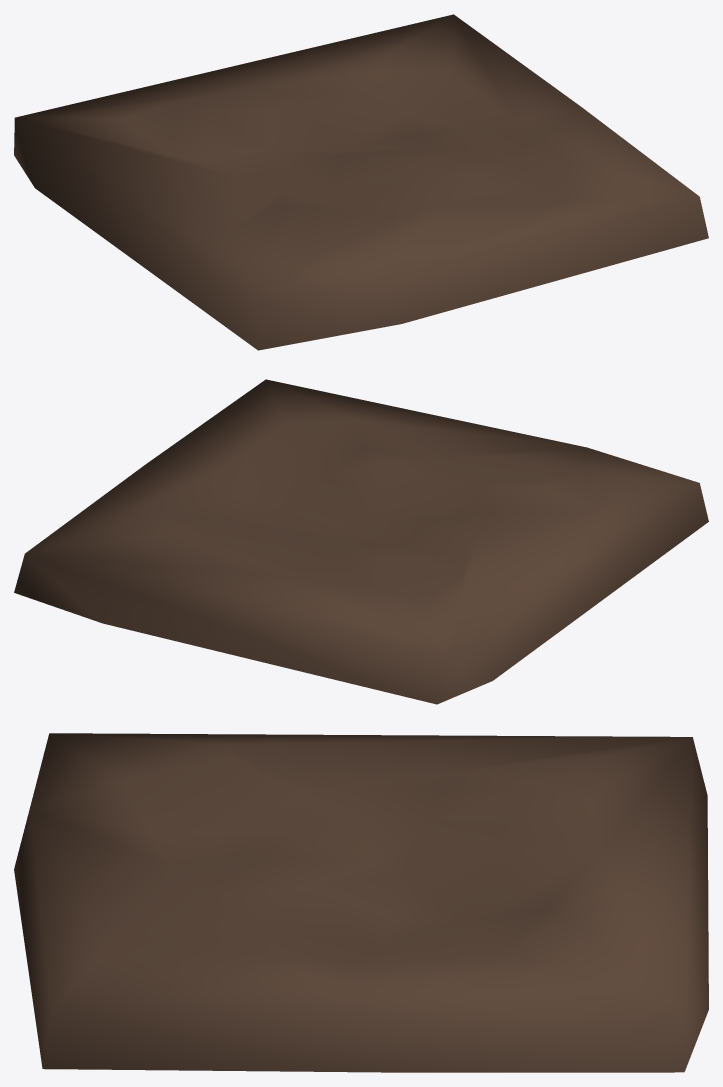
File: Tile__3.fbx
3 renders of one model, top to bottom at view 1: azimuth 30°, elevation 25°; view 2: azimuth 150°, elevation 25°; view 3: azimuth 270°, elevation 25°, orthographic. The views are drawn at different scales.
Visible parts, largest first — view 1: Tille_3; view 2: Tille_3; view 3: Tille_3.
Boxes of the visible parts, x1,y1,x2,y2 form: Tille_3: (14, 14, 708, 350); Tille_3: (14, 379, 708, 704); Tille_3: (14, 733, 708, 1072).
Bounding box in the file's own units: 0.9883 × 1.01 × 0.1386.
